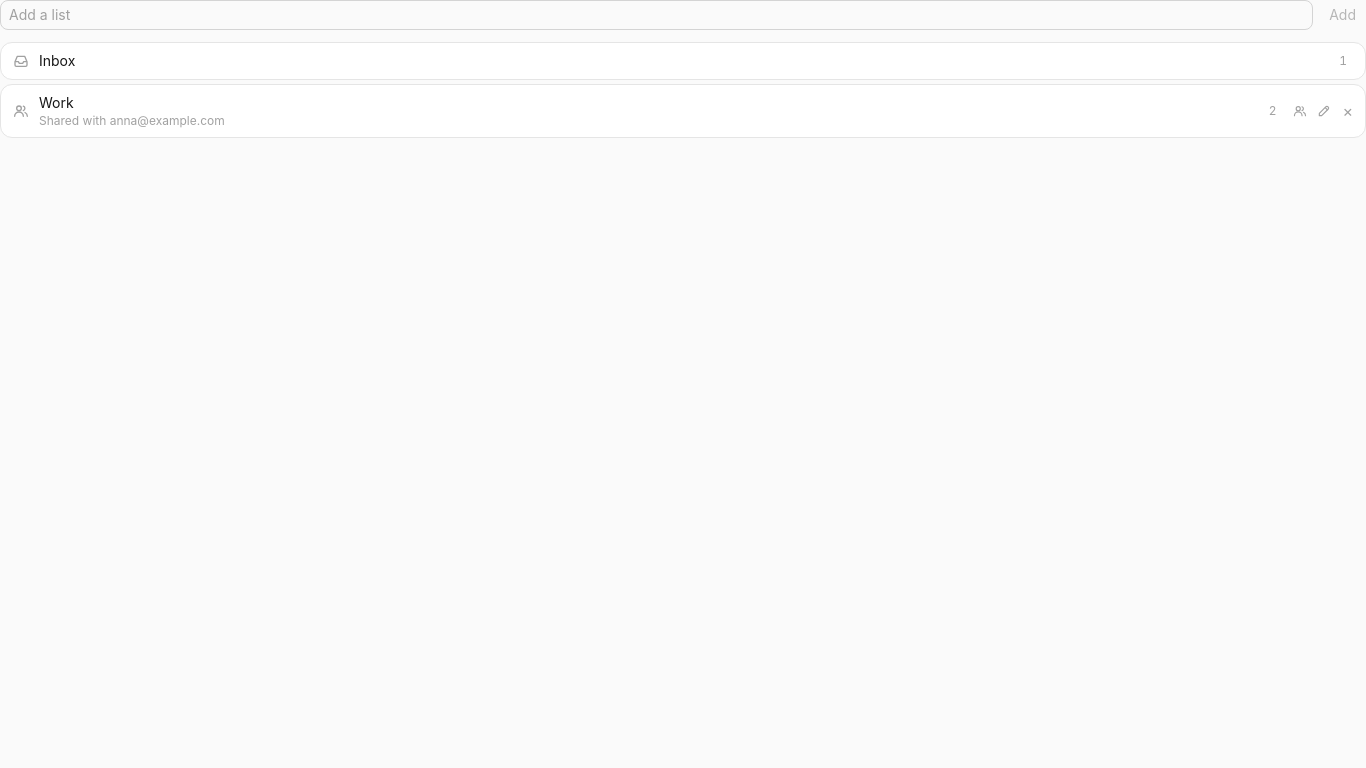
Scenario: sharing a list › says why rather than sharing it with the owner’s own address (LST-28)
Click the button named "Share the list \"Work\"" at (1300, 111), box [1288,99,1312,123]
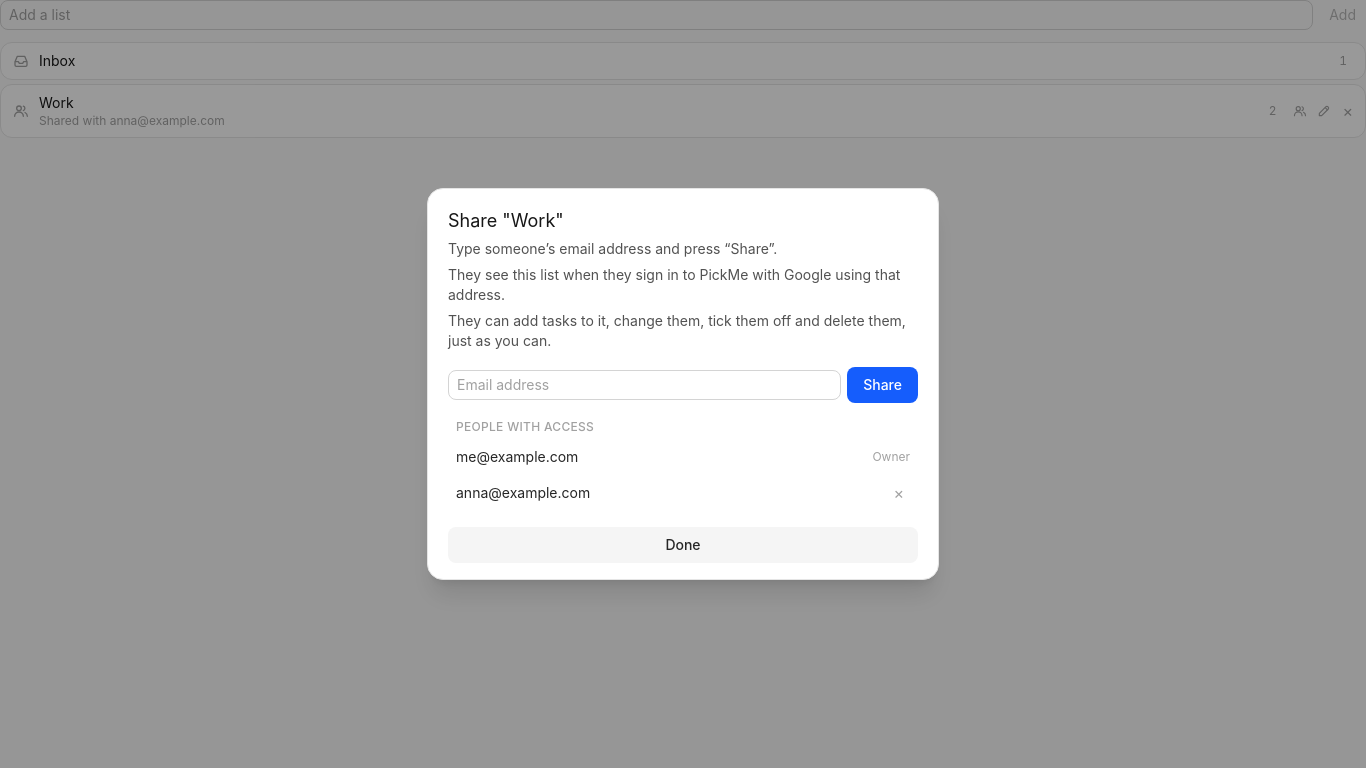
Type "Me@Example.com" into the field named "Email address to share the list with" at (645, 385), box [448,370,841,400]
Then press Enter
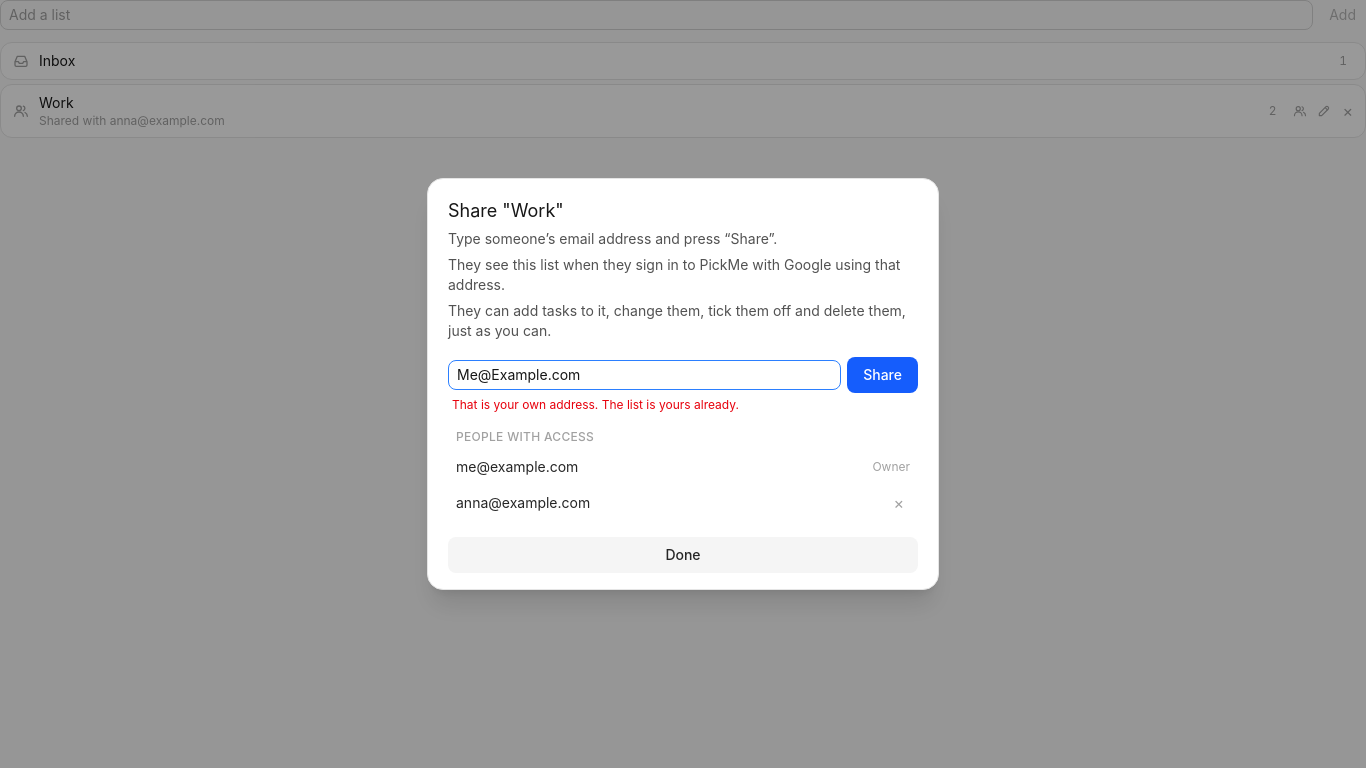
Now the message reads "That is your own address. The list is yours already.", box [452,397,739,412]
